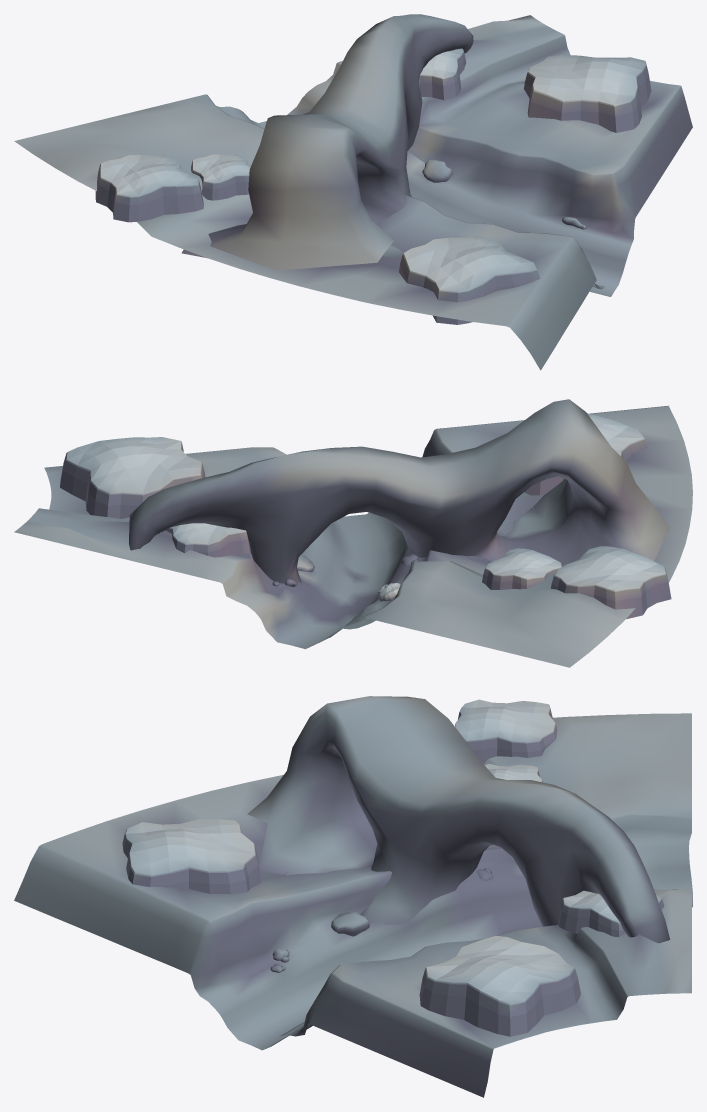
Rendered from Arctic_Luge_Curve_Left_45_A.glb.
3 renders of one model, top to bottom at view 1: azimuth 30°, elevation 25°; view 2: azimuth 150°, elevation 25°; view 3: azimuth 270°, elevation 25°, orthographic. The views are drawn at different scales.
Visible parts, largest first — view 1: Arctic_Luge_Curve_Left_45_A, Arctic_Luge_MediumIceRock_prop (3), Arctic_Luge_MediumIceRock_prop (4), Arctic_Luge_MediumIceRock_prop (1), Arctic_Luge_MediumIceRock_prop (2), Arctic_Luge_MediumIceRock_prop; view 2: Arctic_Luge_Curve_Left_45_A, Arctic_Luge_MediumIceRock_prop (3), Arctic_Luge_MediumIceRock_prop (1), Arctic_Luge_MediumIceRock_prop (2), Arctic_Luge_MediumIceRock_prop, Arctic_Luge_MediumIceRock_prop (4); view 3: Arctic_Luge_Curve_Left_45_A, Arctic_Luge_MediumIceRock_prop (3), Arctic_Luge_MediumIceRock_prop (4), Arctic_Luge_MediumIceRock_prop (1), Arctic_Luge_MediumIceRock_prop, Arctic_Luge_MediumIceRock_prop (2).
Part boxes in pixels (left/top/right/bottom): Arctic_Luge_Curve_Left_45_A: left=14, top=14, right=692, bottom=370; Arctic_Luge_MediumIceRock_prop (3): left=524, top=54, right=651, bottom=132; Arctic_Luge_MediumIceRock_prop (4): left=399, top=236, right=539, bottom=324; Arctic_Luge_MediumIceRock_prop (1): left=95, top=155, right=203, bottom=222; Arctic_Luge_MediumIceRock_prop (2): left=191, top=154, right=250, bottom=200; Arctic_Luge_MediumIceRock_prop: left=418, top=48, right=466, bottom=100; Arctic_Luge_Curve_Left_45_A: left=14, top=399, right=692, bottom=667; Arctic_Luge_MediumIceRock_prop (3): left=60, top=437, right=205, bottom=518; Arctic_Luge_MediumIceRock_prop (1): left=551, top=546, right=671, bottom=619; Arctic_Luge_MediumIceRock_prop (2): left=482, top=548, right=562, bottom=589; Arctic_Luge_MediumIceRock_prop: left=166, top=523, right=250, bottom=557; Arctic_Luge_MediumIceRock_prop (4): left=524, top=413, right=647, bottom=495; Arctic_Luge_Curve_Left_45_A: left=14, top=696, right=692, bottom=1097; Arctic_Luge_MediumIceRock_prop (3): left=419, top=936, right=580, bottom=1036; Arctic_Luge_MediumIceRock_prop (4): left=122, top=819, right=261, bottom=894; Arctic_Luge_MediumIceRock_prop (1): left=455, top=699, right=557, bottom=764; Arctic_Luge_MediumIceRock_prop: left=558, top=890, right=664, bottom=936; Arctic_Luge_MediumIceRock_prop (2): left=485, top=764, right=542, bottom=782.
Bounding box in the file's own units: 29.45 × 9.22 × 26.63.
